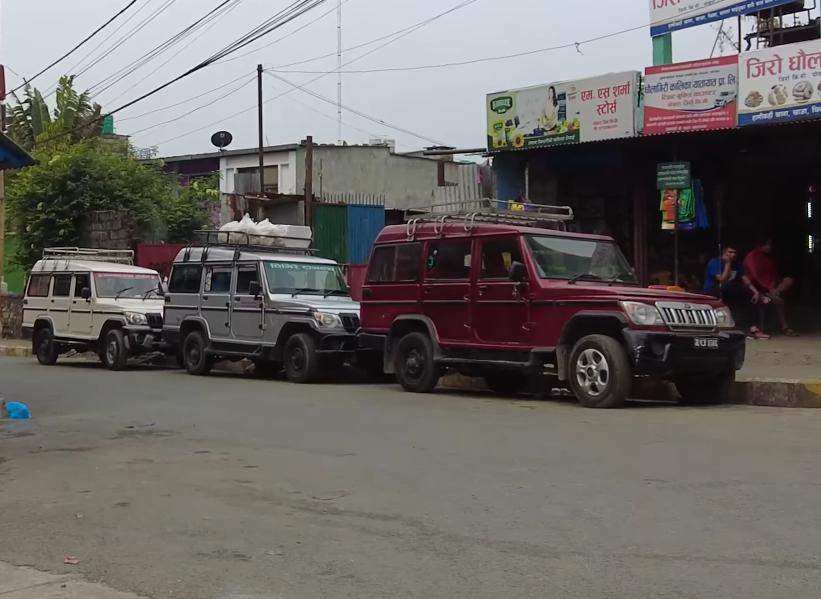SUV: (361, 179, 755, 412), (155, 218, 384, 385), (19, 235, 197, 373)
